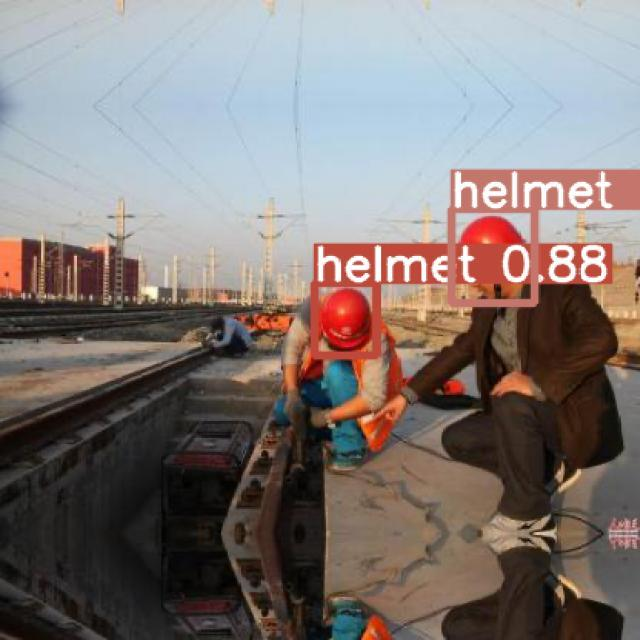Helmet: (454, 215, 528, 300), (319, 287, 371, 349)
